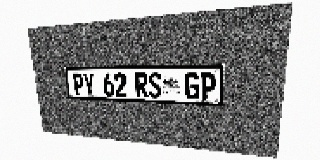2: (114, 73, 127, 97)
6: (102, 73, 115, 96)
G: (185, 72, 200, 99)
P: (200, 72, 216, 100), (72, 73, 84, 95)
R: (135, 73, 148, 98)
S: (148, 73, 162, 98)
Y: (83, 73, 95, 96)
